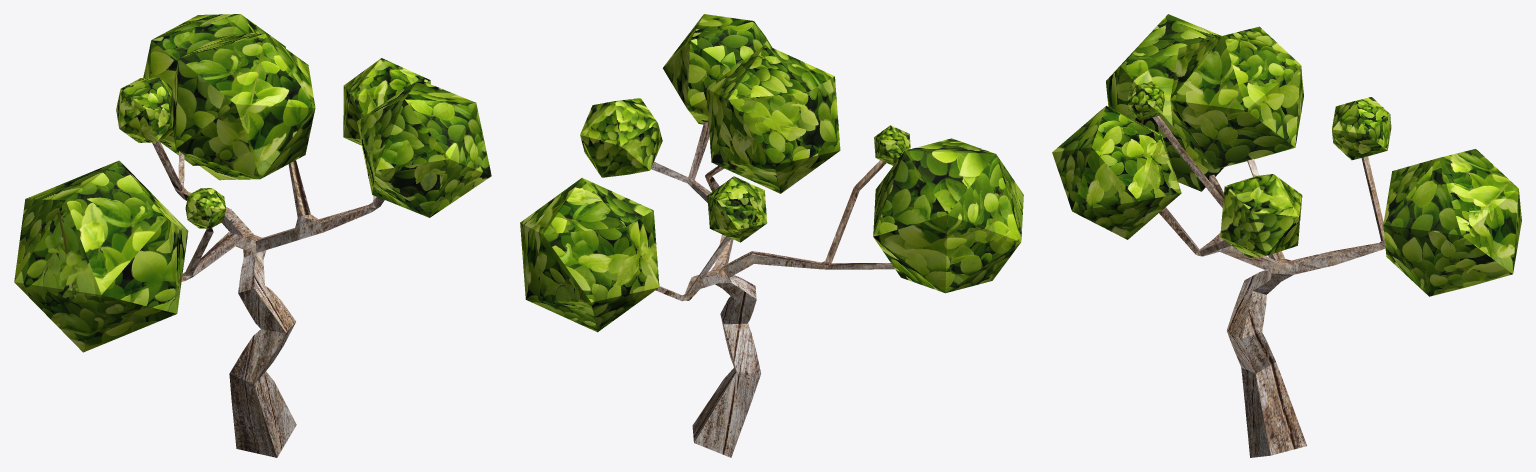
Rendered from Trees1 (1).fbx.
3 views of the same model, side by side, from view 1: azimuth 30°, elevation 25°; view 2: azimuth 150°, elevation 25°; view 3: azimuth 270°, elevation 25° (orthographic). The views are drawn at different scales.
Parts seen in each view (by area): view 1: Icosphere.002; view 2: Icosphere.002; view 3: Icosphere.002.
Boxes of the visible parts, x1,y1,x2,y2 form: Icosphere.002: (14, 14, 491, 457); Icosphere.002: (520, 14, 1023, 457); Icosphere.002: (1052, 14, 1521, 457).
Size of the model in its own units: 4964 by 4651 by 4825.
